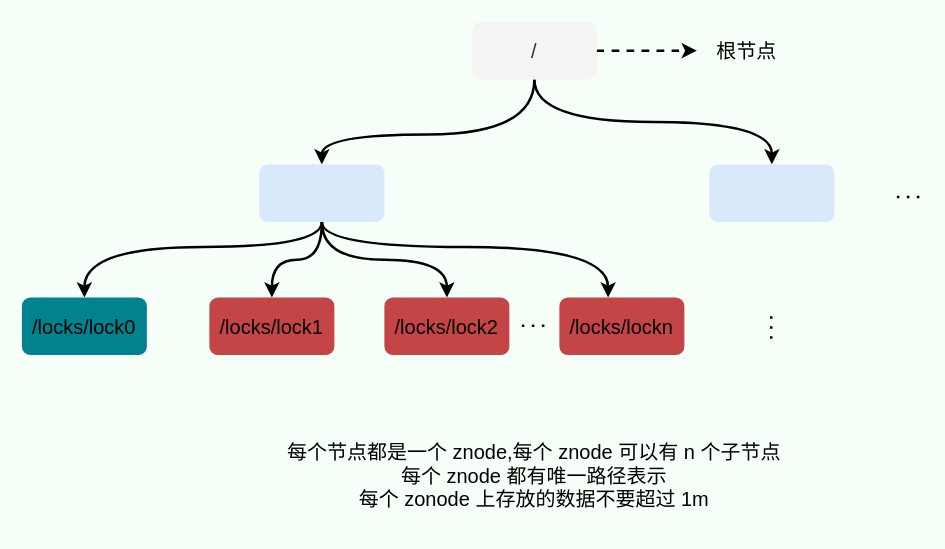
The diagram is 945 pixels wide and 549 high, and some of its shapes have lost their labels. Each missing label, with the centre of its shape:
/ids: the point at 771,192
/locks: the point at 321,192
